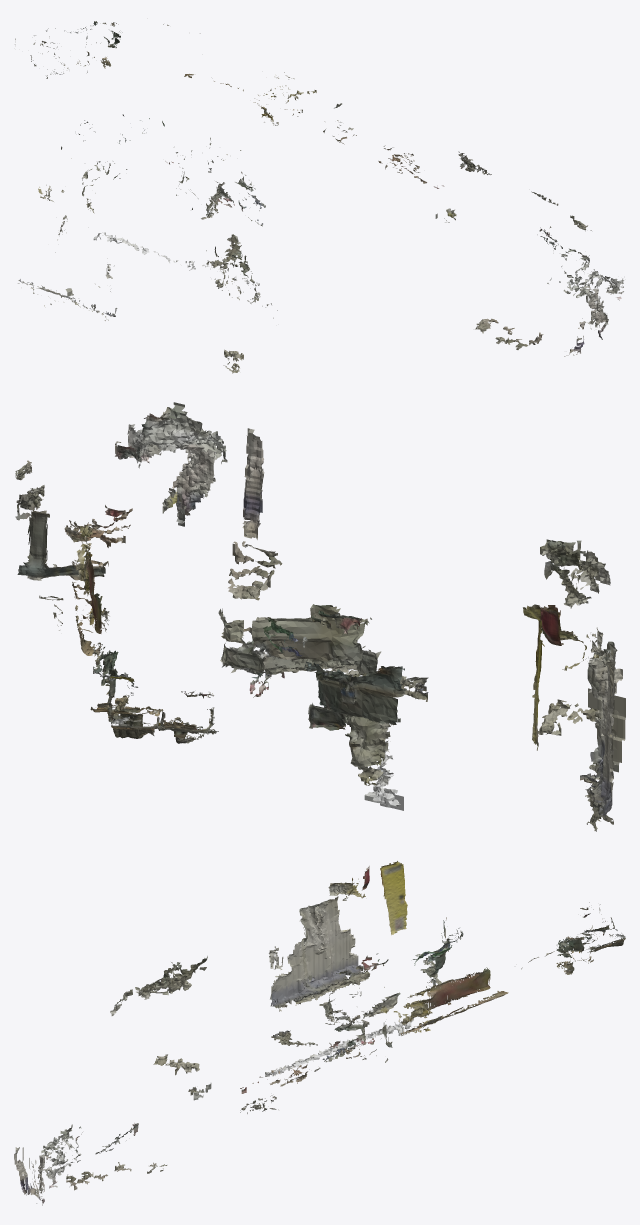
File: surfaces-0.glb
3 views of the same model, one above another, from view 1: azimuth 30°, elevation 25°; view 2: azimuth 150°, elevation 25°; view 3: azimuth 270°, elevation 25° (orthographic). The views are drawn at different scales.
Parts seen in each view (by area): view 1: obj-0-269, obj-0-0; view 2: obj-0-26, obj-0-29, obj-0-269, obj-0-302, obj-0-43, obj-0-0, obj-0-11, obj-0-321, obj-0-318, obj-0-40, obj-0-8, obj-0-347 (+11 smaller); view 3: obj-0-321, obj-0-2, obj-0-38, obj-0-302, obj-0-26, obj-0-347, obj-0-269, obj-0-273, obj-0-29.
Part boxes in pixels (left/top/right/bottom): obj-0-269: left=547, top=248, right=622, bottom=297; obj-0-0: left=586, top=288, right=608, bottom=339; obj-0-26: left=218, top=604, right=378, bottom=682; obj-0-29: left=304, top=661, right=406, bottom=785; obj-0-269: left=129, top=402, right=227, bottom=463; obj-0-302: left=540, top=539, right=599, bottom=608; obj-0-43: left=17, top=510, right=105, bottom=580; obj-0-0: left=172, top=449, right=215, bottom=515; obj-0-11: left=242, top=428, right=264, bottom=539; obj-0-321: left=587, top=641, right=617, bottom=824; obj-0-318: left=228, top=541, right=282, bottom=600; obj-0-40: left=221, top=627, right=381, bottom=676; obj-0-8: left=588, top=688, right=625, bottom=791; obj-0-347: left=364, top=740, right=403, bottom=810; obj-0-321: left=269, top=896, right=363, bottom=1011; obj-0-2: left=403, top=967, right=490, bottom=1021; obj-0-38: left=380, top=861, right=407, bottom=935; obj-0-302: left=135, top=956, right=207, bottom=999; obj-0-26: left=319, top=968, right=400, bottom=1055; obj-0-347: left=265, top=1015, right=413, bottom=1076; obj-0-269: left=41, top=1124, right=82, bottom=1180; obj-0-273: left=293, top=970, right=369, bottom=1005; obj-0-29: left=420, top=917, right=462, bottom=1002.
Bounding box in the file's own units: 13.52 × 5.04 × 15.76.
